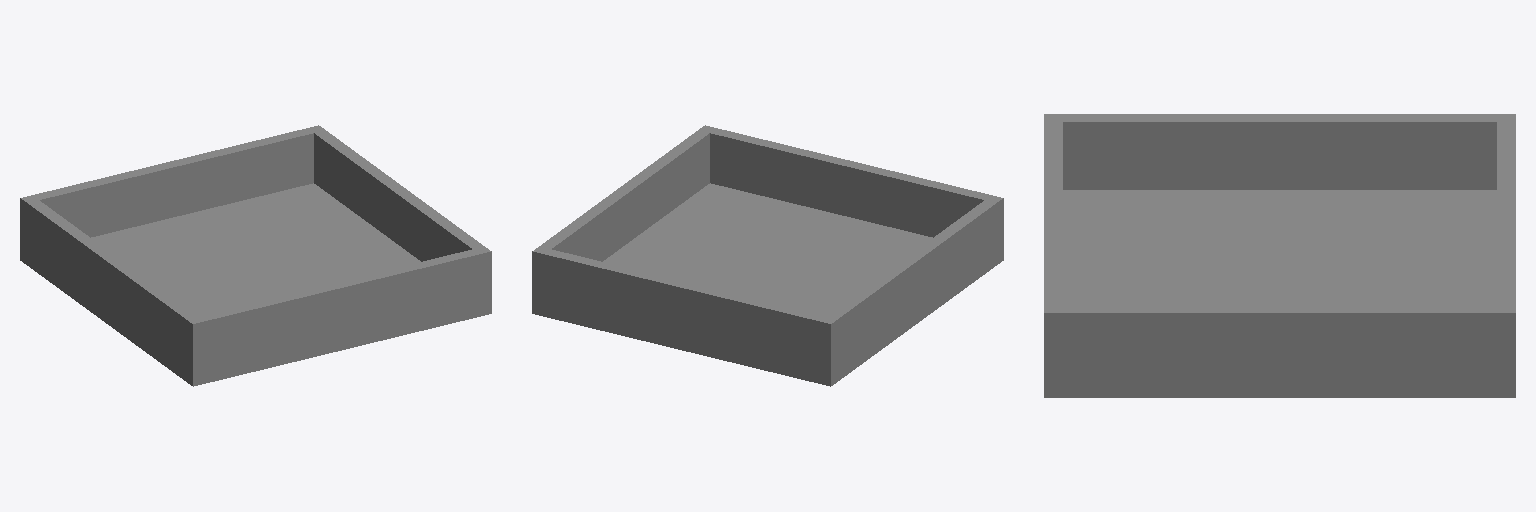
The robot description file, URDF, robot "bin":
<?xml version='1.0' encoding='utf-8'?>
<robot name="bin"><link name="bin_body"><collision><origin xyz="0 0 -0.025" /><geometry><box size="0.23 0.23 0.01" /></geometry></collision><visual><origin xyz="0 0 -0.025" /><geometry><box size="0.23 0.23 0.01" /></geometry><material name="c"><color rgba="0.6 0.6 0.6 1.0" /></material></visual><collision><origin xyz="0.12000000000000001 0 -0.005" /><geometry><box size="0.01 0.25 0.05" /></geometry></collision><visual><origin xyz="0.12000000000000001 0 -0.005" /><geometry><box size="0.01 0.25 0.05" /></geometry><material name="c"><color rgba="0.6 0.6 0.6 1.0" /></material></visual><collision><origin xyz="-0.12000000000000001 0 -0.005" /><geometry><box size="0.01 0.25 0.05" /></geometry></collision><visual><origin xyz="-0.12000000000000001 0 -0.005" /><geometry><box size="0.01 0.25 0.05" /></geometry><material name="c"><color rgba="0.6 0.6 0.6 1.0" /></material></visual><collision><origin xyz="0 0.12000000000000001 -0.005" /><geometry><box size="0.23 0.01 0.05" /></geometry></collision><visual><origin xyz="0 0.12000000000000001 -0.005" /><geometry><box size="0.23 0.01 0.05" /></geometry><material name="c"><color rgba="0.6 0.6 0.6 1.0" /></material></visual><collision><origin xyz="0 -0.12000000000000001 -0.005" /><geometry><box size="0.23 0.01 0.05" /></geometry></collision><visual><origin xyz="0 -0.12000000000000001 -0.005" /><geometry><box size="0.23 0.01 0.05" /></geometry><material name="c"><color rgba="0.6 0.6 0.6 1.0" /></material></visual></link></robot>

--- What the picture shows (computed from the rendered views, not written in the file) ---
The picture shows the robot from 3 angles, left to right: view 1: azimuth 30°, elevation 25°; view 2: azimuth 150°, elevation 25°; view 3: azimuth 270°, elevation 25°; orthographic projection.
Model bin with 1 links and 0 joints (none), rooted at bin_body, posed all joints at 0.
Links seen in each view (by area): view 1: bin_body; view 2: bin_body; view 3: bin_body.
Boxes of the visible links, box(x1,y1,x2,y2) form: bin_body: box(20, 125, 491, 386); bin_body: box(532, 125, 1003, 386); bin_body: box(1044, 114, 1515, 397).
Bounding box of the posed robot: 0.25 × 0.25 × 0.05 m (x, y, z).
Geometry: primitives only (box / cylinder / sphere), no mesh files.
